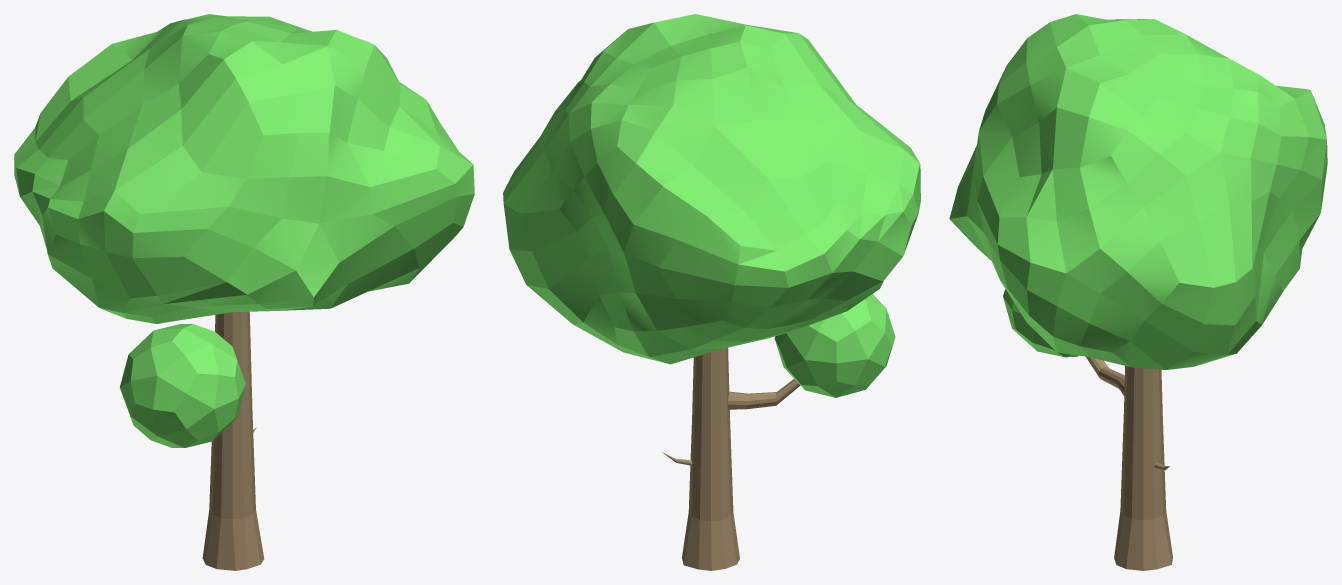
File: Tree 2.fbx
3 views of the same model, side by side, from view 1: azimuth 30°, elevation 25°; view 2: azimuth 150°, elevation 25°; view 3: azimuth 270°, elevation 25° (orthographic). The views are drawn at different scales.
Parts seen in each view (by area): view 1: tree_008_green; view 2: tree_008_green; view 3: tree_008_green.
Part boxes in pixels (x1,y1,x2,y2): tree_008_green: (14,14,474,570); tree_008_green: (503,14,920,570); tree_008_green: (949,14,1327,570).
Size of the model in its own units: 4.51 by 6.05 by 3.92.
